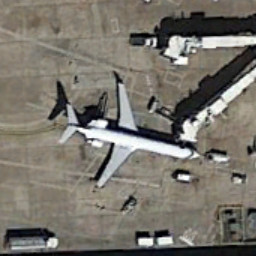Airplane: (41, 70, 210, 207)
